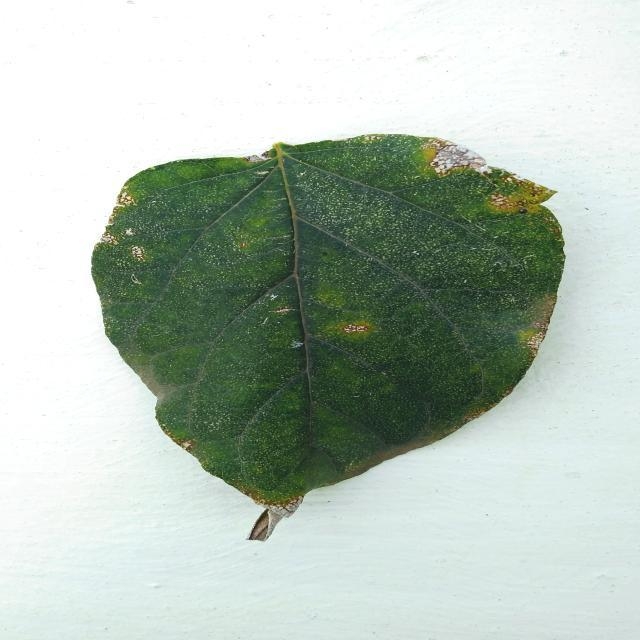leaf: (90, 131, 566, 541)
